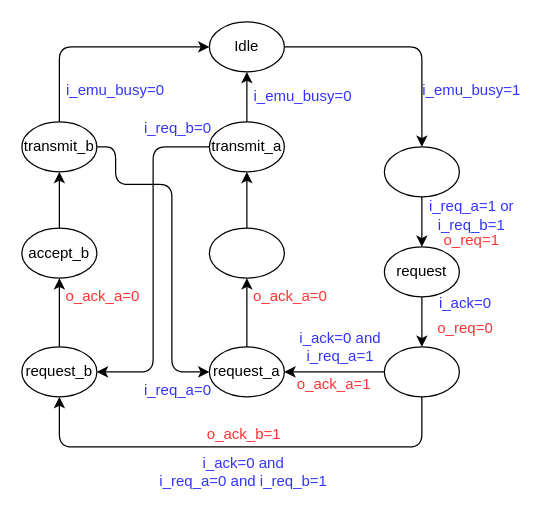
The diagram is 543 pixels wide and 513 high, and some of its shapes have lost their labels. Each missing label, with the centre of its shape:
accept: [421,371]
accept_a: [246,252]
busy: [421,171]
